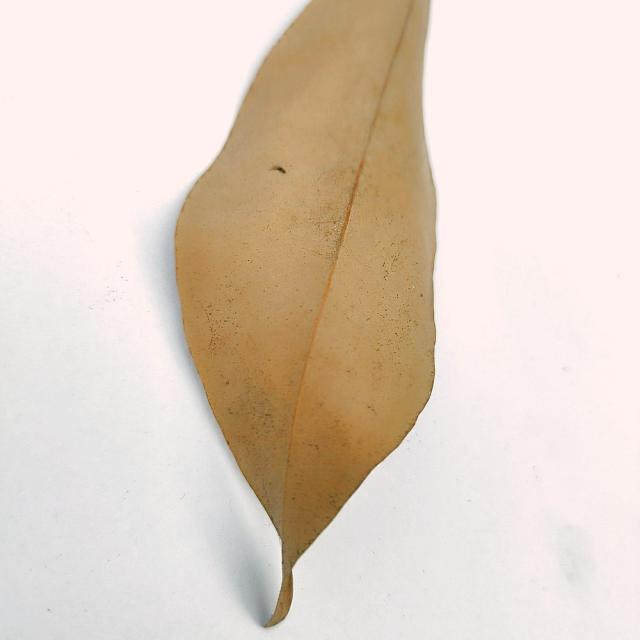Dry_Leaf-Lychee: (172, 0, 439, 628)
